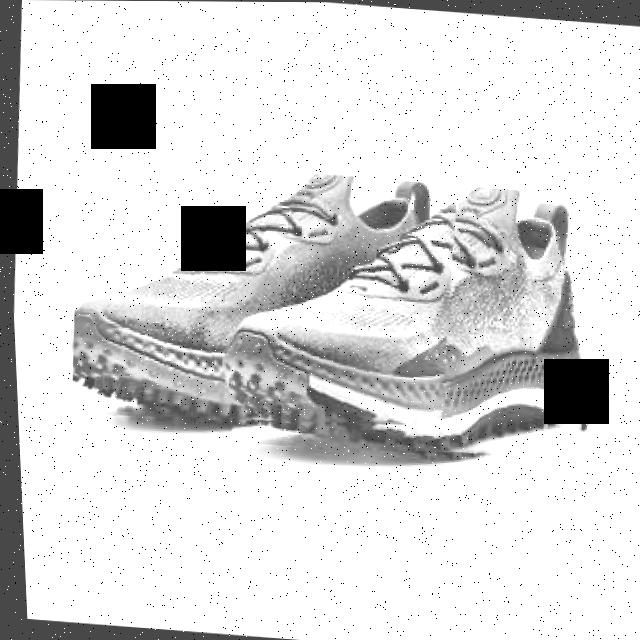shoe: (58, 154, 465, 443), (217, 168, 606, 470)
